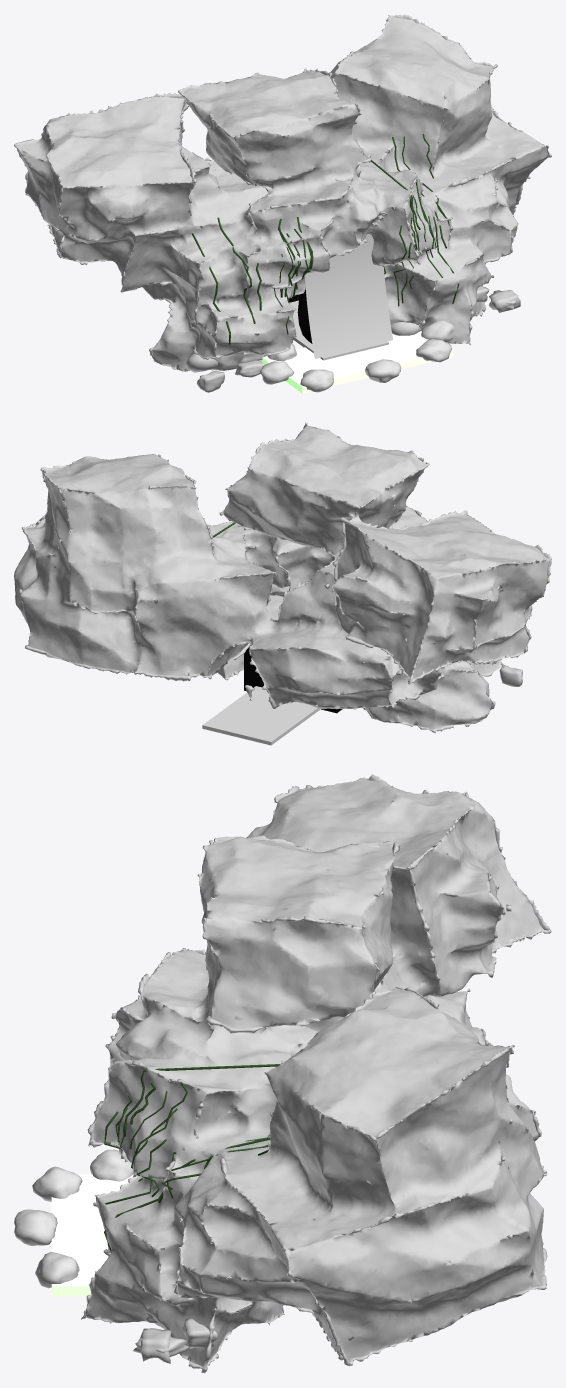
File: Cave.fbx
3 renders of one model, top to bottom at view 1: azimuth 30°, elevation 25°; view 2: azimuth 150°, elevation 25°; view 3: azimuth 270°, elevation 25°, orthographic. The views are drawn at different scales.
Parts seen in each view (by area): view 1: Cave_LOD0; view 2: Cave_LOD0; view 3: Cave_LOD0.
Boxes of the visible parts, x1,y1,x2,y2 form: Cave_LOD0: [14, 14, 551, 393]; Cave_LOD0: [14, 422, 551, 745]; Cave_LOD0: [14, 774, 551, 1373].
Size of what is drawn, in the model's own units: 38.65 by 18.44 by 24.36.
